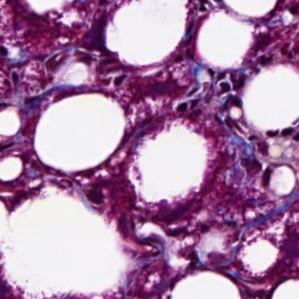inflammation: (169, 68, 244, 119)
